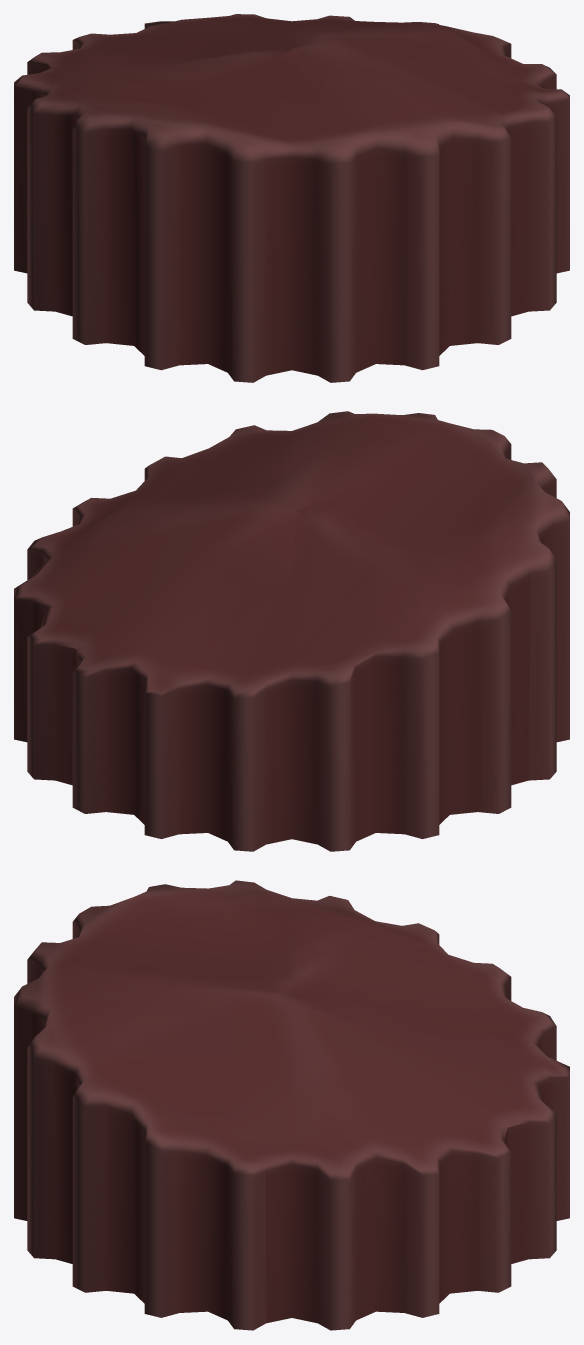
Rendered from Pillar_Top_Broken.fbx.
3 views of the same model, one above another, from view 1: azimuth 30°, elevation 25°; view 2: azimuth 150°, elevation 25°; view 3: azimuth 270°, elevation 25° (orthographic).
Parts seen in each view (by area): view 1: Pillar_Top_Broken; view 2: Pillar_Top_Broken; view 3: Pillar_Top_Broken.
Part boxes in pixels (<box>): Pillar_Top_Broken: <box>14,14,569,382</box>; Pillar_Top_Broken: <box>14,411,569,851</box>; Pillar_Top_Broken: <box>14,880,569,1330</box>.
Bounding box in the file's own units: 27.82 × 13.29 × 28.08.
Materials: 1 (1 with a texture image).
